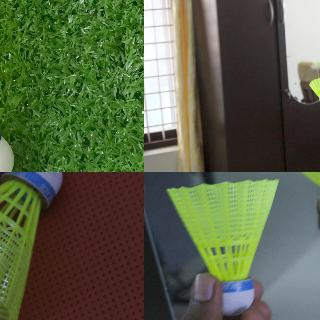shuttlecock: (165, 180, 277, 312), (0, 172, 63, 319), (274, 172, 319, 215), (309, 77, 319, 106)
